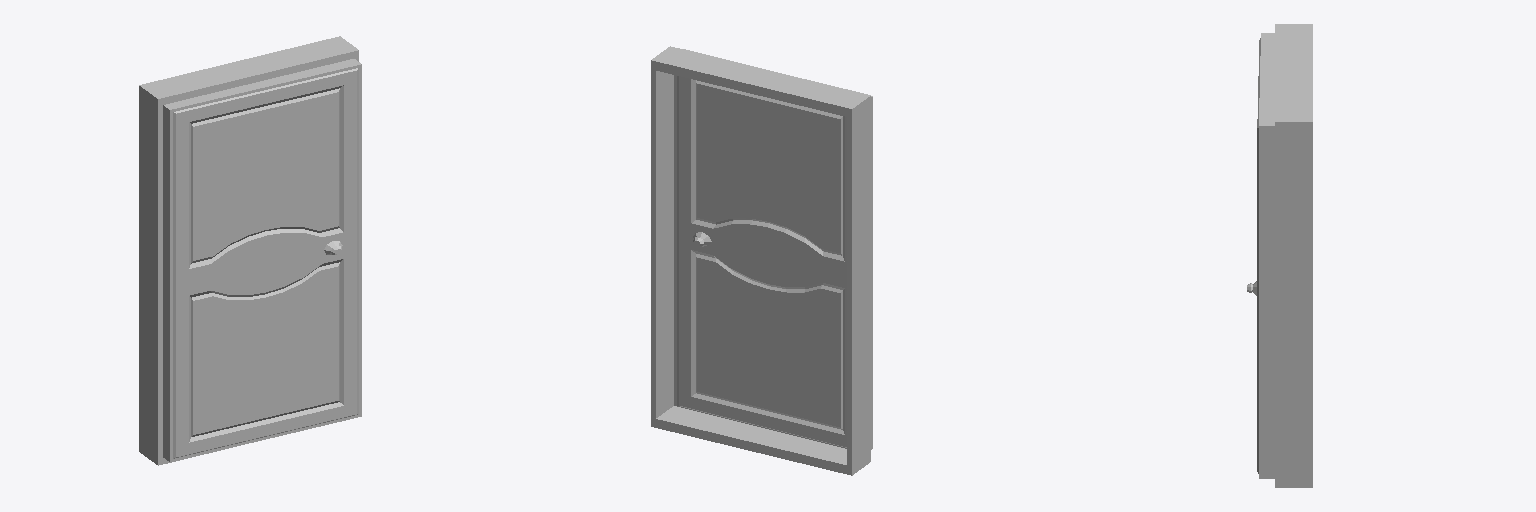
The model's file is drzwiok_000040.obj.
3 renders of one model, left to right at view 1: azimuth 30°, elevation 25°; view 2: azimuth 150°, elevation 25°; view 3: azimuth 270°, elevation 25°, orthographic.
Parts seen in each view (by area): view 1: Door_4.001_Cube.001, Kostka; view 2: Door_4.001_Cube.001, Kostka; view 3: Kostka, Door_4.001_Cube.001.
Part boxes in pixels (bbox=[...]): Door_4.001_Cube.001: bbox=[163, 59, 361, 461]; Kostka: bbox=[139, 36, 358, 465]; Door_4.001_Cube.001: bbox=[674, 49, 872, 449]; Kostka: bbox=[651, 46, 870, 475]; Kostka: bbox=[1275, 24, 1312, 487]; Door_4.001_Cube.001: bbox=[1247, 33, 1274, 478].
Bounding box in the file's own units: 0.7416 × 1.29 × 0.2098.